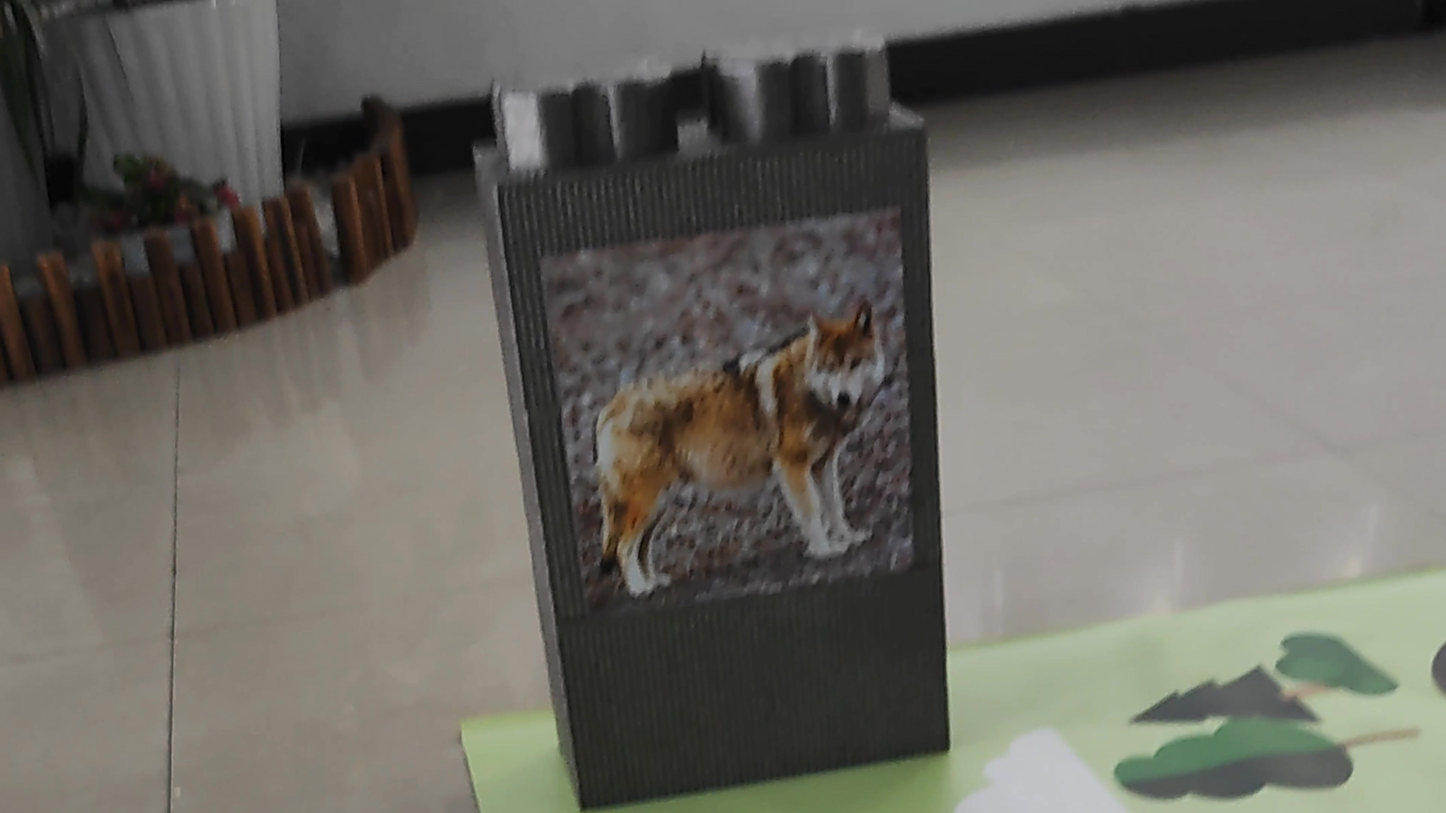wolf: (544, 281, 886, 588)
